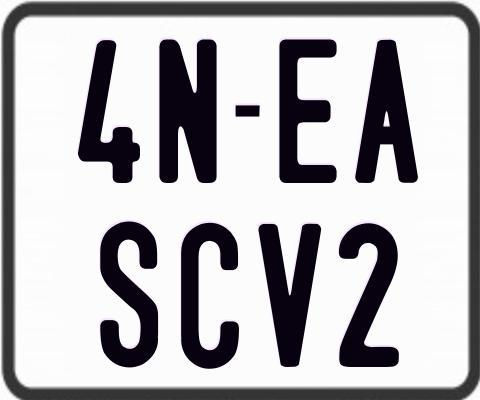2: (337, 220, 397, 369)
4: (77, 37, 145, 182)
A: (353, 37, 420, 182)
C: (181, 223, 241, 373)
E: (277, 37, 338, 183)
N: (159, 38, 223, 182)
S: (100, 218, 159, 365)
V: (255, 222, 322, 368)
